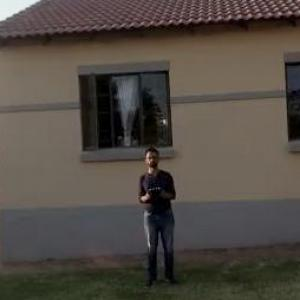follow: (135, 141, 183, 294)
